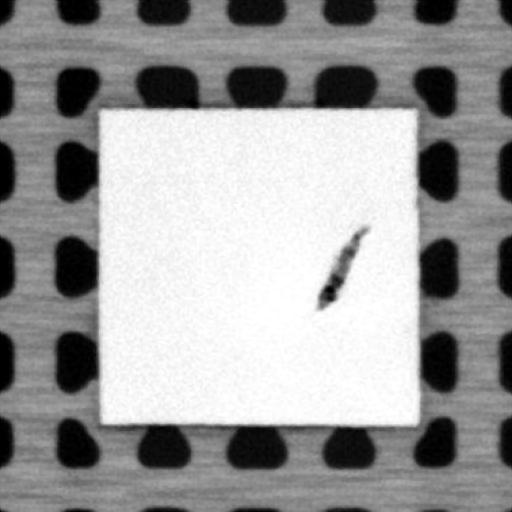DIE_INK: (313, 226, 371, 306)
